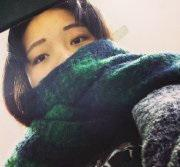WRONG: (26, 20, 107, 100)
